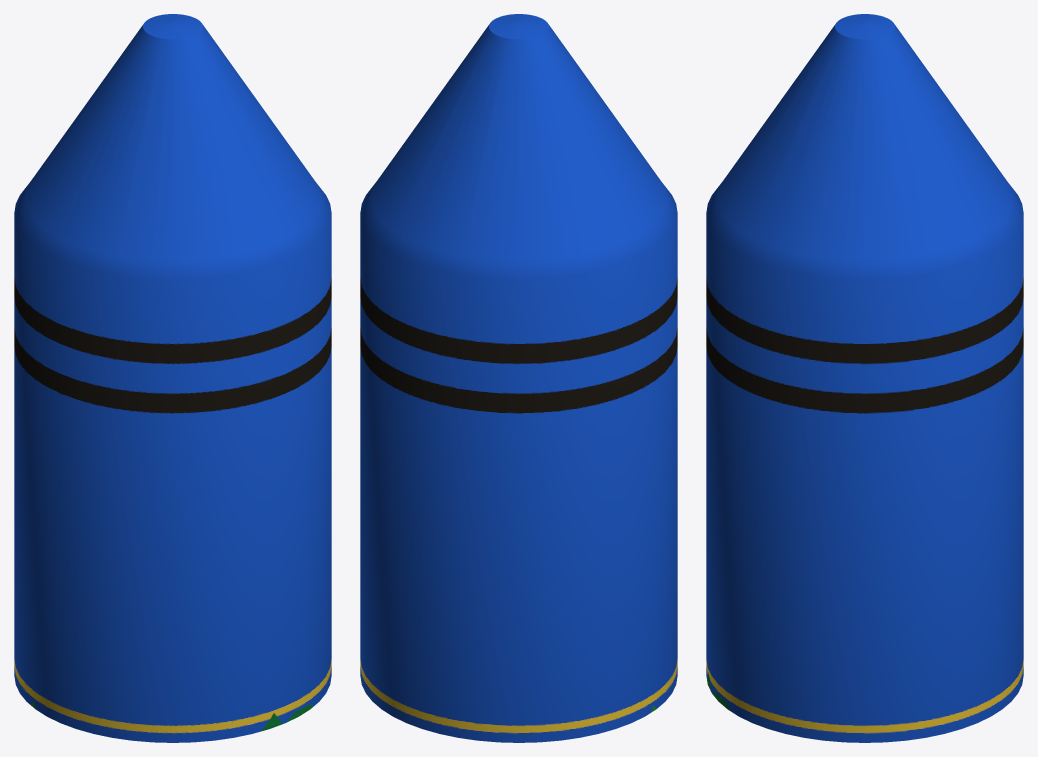
Rendered from 14-topper-front-right.fbx.
3 renders of one model, left to right at view 1: azimuth 30°, elevation 25°; view 2: azimuth 150°, elevation 25°; view 3: azimuth 270°, elevation 25°, orthographic.
Visible parts, largest first — view 1: topper-front-right; view 2: topper-front-right; view 3: topper-front-right.
Boxes of the visible parts, <box> form: topper-front-right: <box>14,14,331,742</box>; topper-front-right: <box>360,14,677,742</box>; topper-front-right: <box>706,14,1023,742</box>.
Bounding box in the file's own units: 2320 × 5270 × 2320.
1 material, 1 textured.
